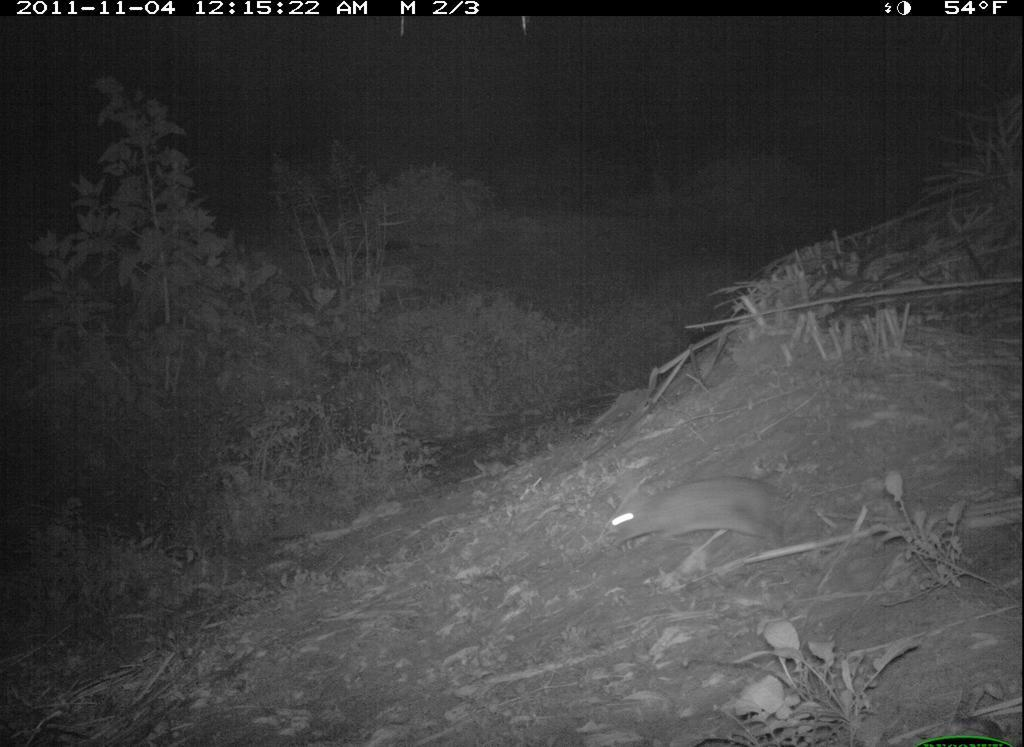rabbit: (607, 464, 793, 565)
